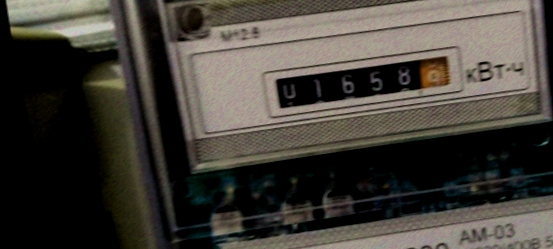0: (278, 77, 298, 100)
1: (308, 74, 326, 100)
5: (366, 67, 385, 93)
6: (337, 70, 358, 96)
8: (394, 63, 414, 87)
9: (423, 66, 442, 89)
screen: (258, 38, 470, 126)
